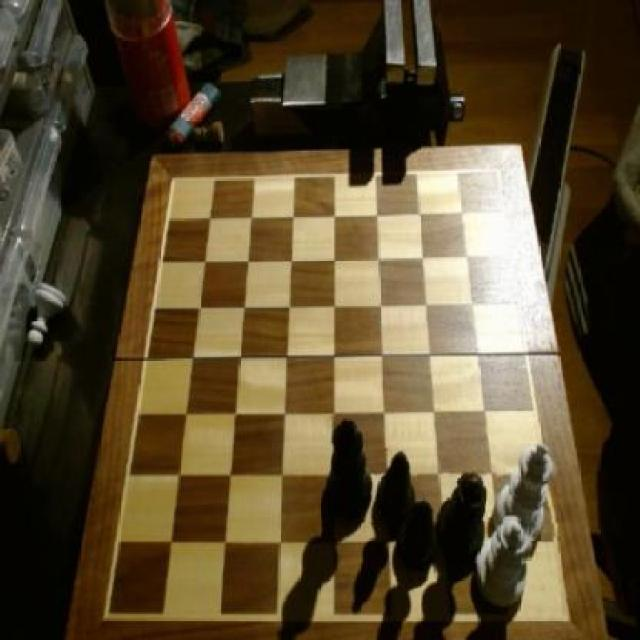bishop: (397, 497, 438, 577), (376, 449, 416, 528)
black-bishop: (328, 416, 377, 524)
black-pawn: (440, 471, 486, 564)
white-bishop: (497, 446, 558, 543)
white-pawn: (478, 516, 532, 612)
